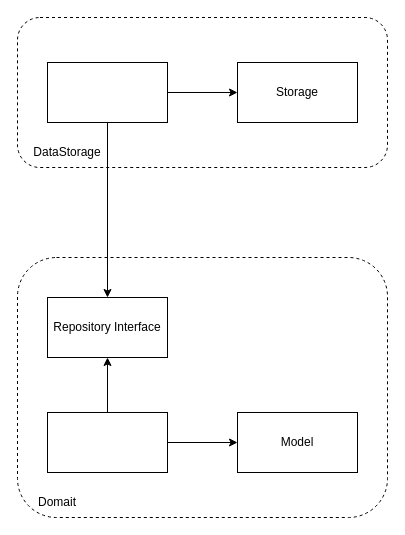
Some shapes in this 405 by 535 pixel diagram are drawn without their labels. Each missing label, with the centre of its shape:
RepositoryImpl: the point at 107,92
UseCase: the point at 107,442
